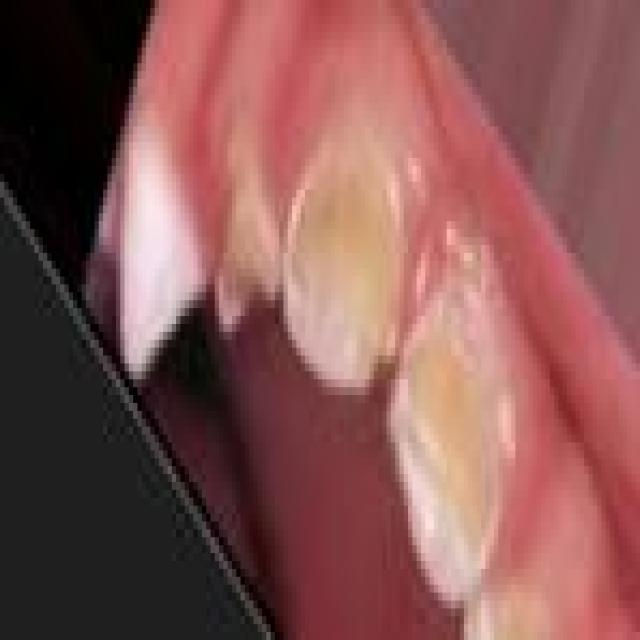caries: (387, 286, 498, 586), (286, 124, 389, 388), (217, 93, 273, 333)
